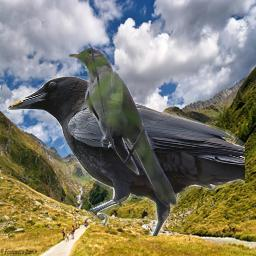Crow: (7, 76, 245, 236)
Cuckoo: (69, 47, 182, 208)
